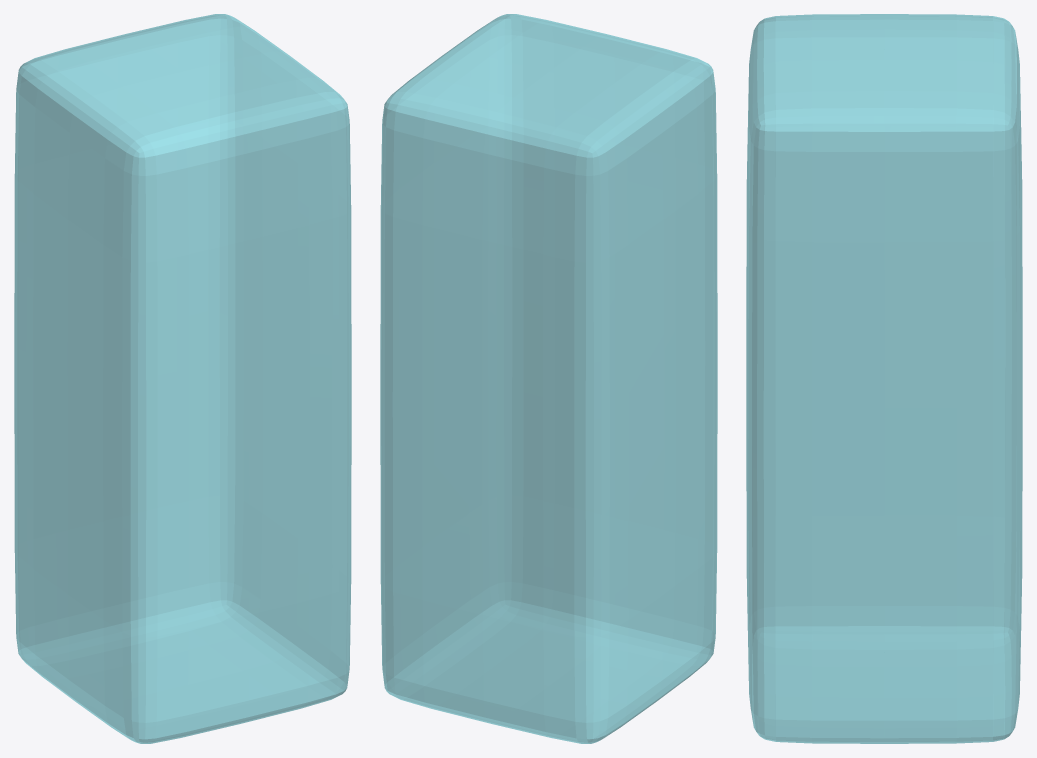
File: Pilar es batu.fbx
3 renders of one model, left to right at view 1: azimuth 30°, elevation 25°; view 2: azimuth 150°, elevation 25°; view 3: azimuth 270°, elevation 25°, orthographic. The views are drawn at different scales.
Parts seen in each view (by area): view 1: pilar pembatas datar; view 2: pilar pembatas datar; view 3: pilar pembatas datar.
Part boxes in pixels (x1,y1,x2,y2): pilar pembatas datar: (14,14,351,743); pilar pembatas datar: (380,14,717,743); pilar pembatas datar: (746,14,1022,743).
Size of the model in its own units: 114 by 290 by 114.
